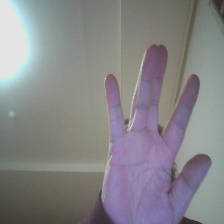hand: (97, 40, 209, 223)
